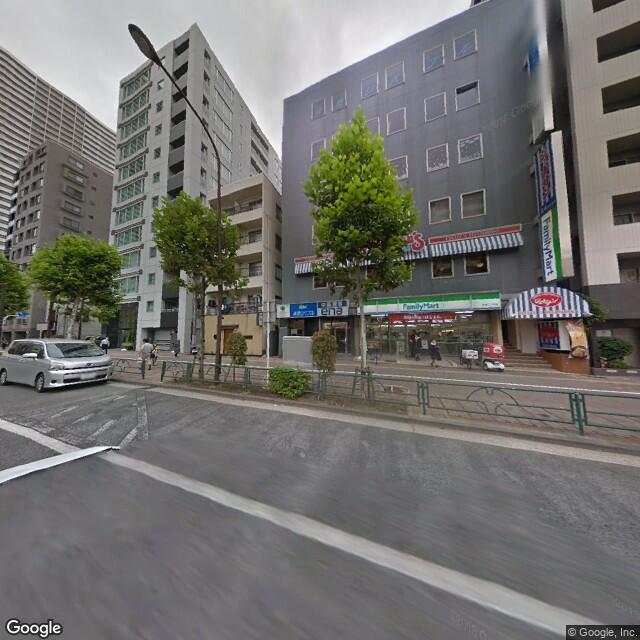family_mart: (361, 288, 502, 319), (540, 203, 561, 288)
